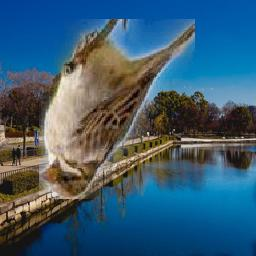Sparrow: (39, 19, 195, 199)
